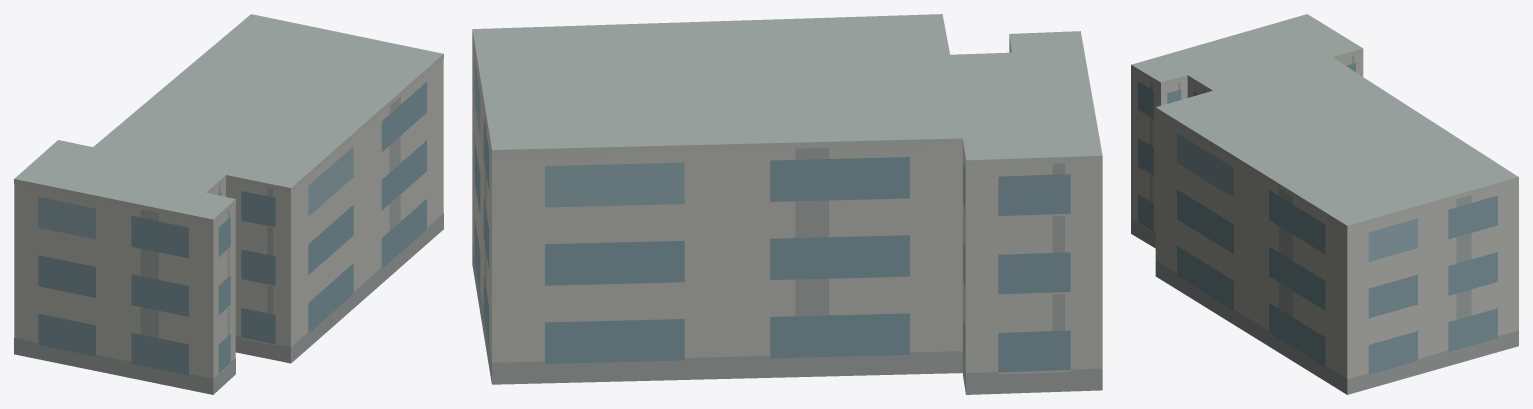
The model's file is survey-upis-33010688.glb.
3 views of the same model, side by side, from view 1: azimuth 30°, elevation 25°; view 2: azimuth 150°, elevation 25°; view 3: azimuth 270°, elevation 25° (orthographic). The views are drawn at different scales.
Visible parts, largest first — view 1: survey-upis-33010688.tmp; view 2: survey-upis-33010688.tmp; view 3: survey-upis-33010688.tmp.
Boxes of the visible parts, <box> form: survey-upis-33010688.tmp: <box>14,14,443,394</box>; survey-upis-33010688.tmp: <box>472,14,1102,394</box>; survey-upis-33010688.tmp: <box>1131,14,1518,394</box>.
Bounding box in the file's own units: 24.6 × 9.15 × 19.03.
